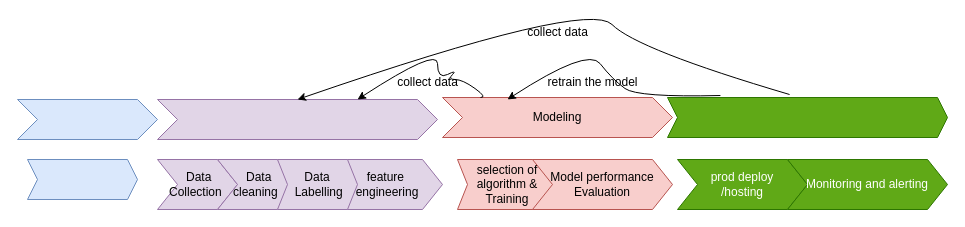
Some shapes in this 965 by 227 pixel diagram are drawn without their labels. The shapes that lost their labels are listed below. From the top down, each one's centre as x and y in pixels, then its label:
(87,119): Scope
(297,119): Data
(807,117): Deployment
(82,179): Define Model Scope
